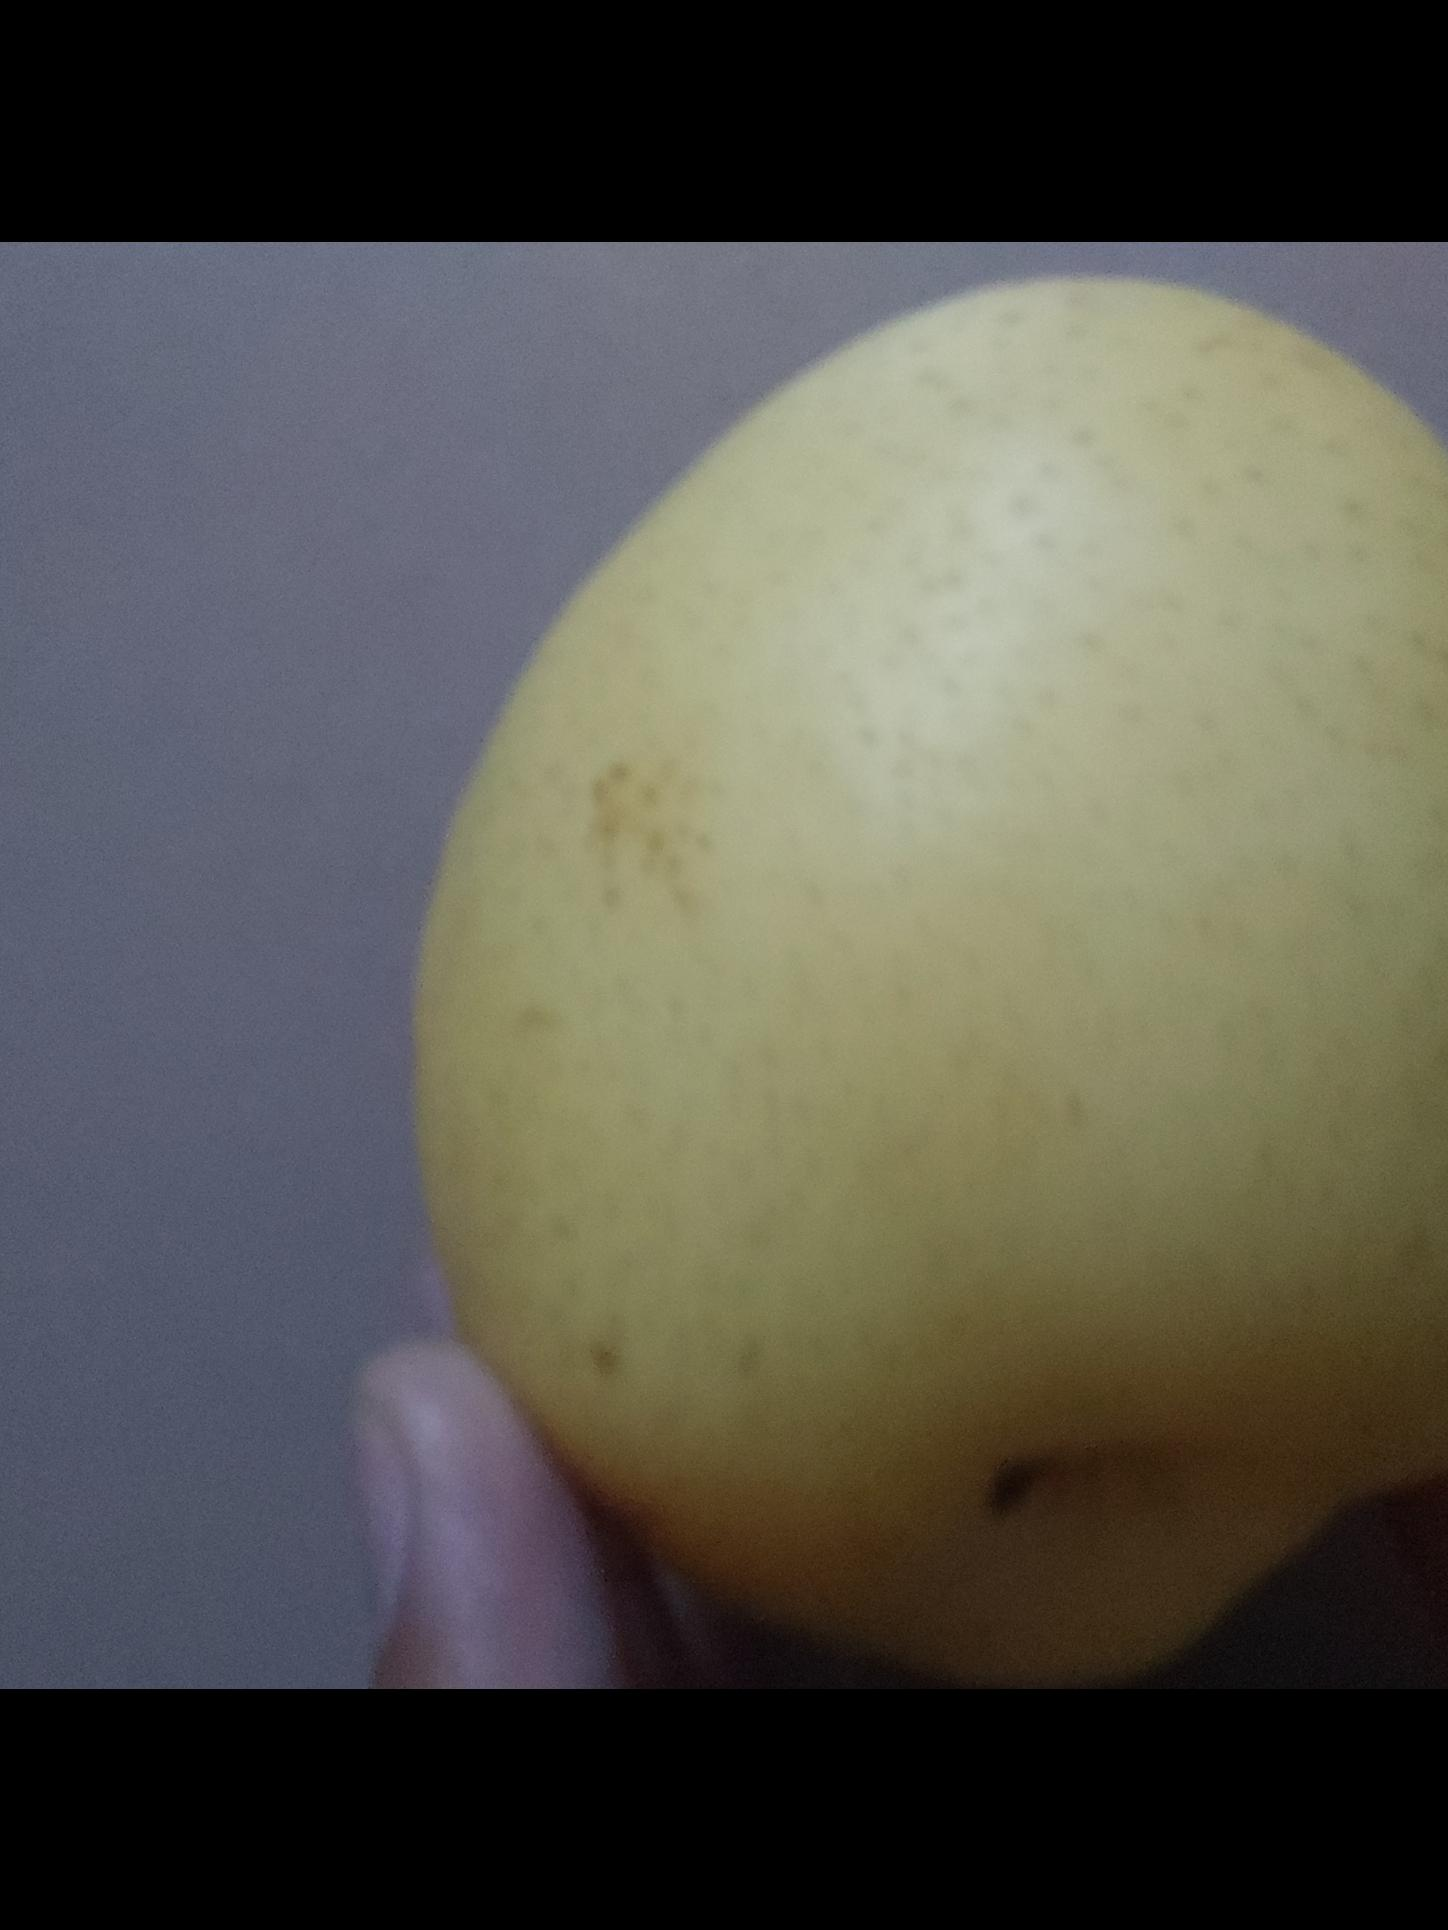Good Pear: (397, 240, 1448, 1684)
